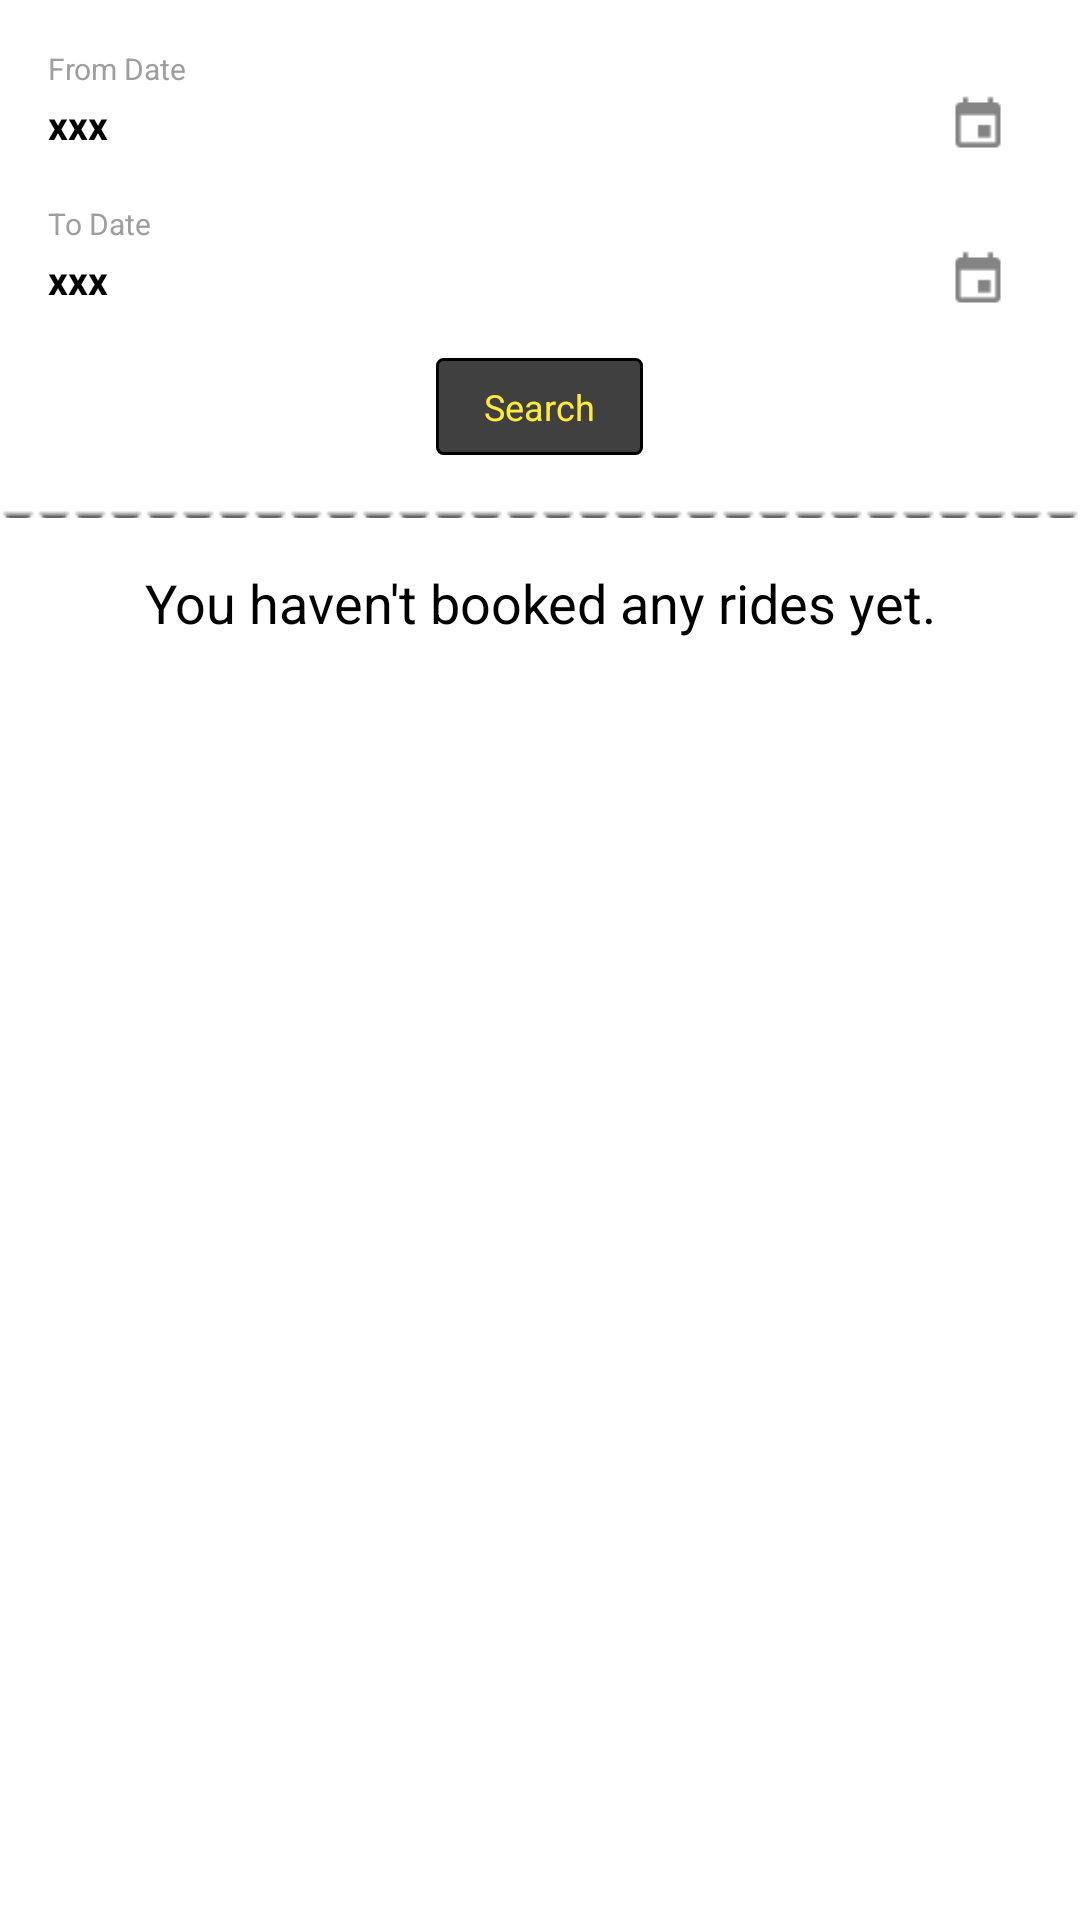

Icon bounding boxes for this 1080px×1920px phone screenshot, format (x1, y1, x2, y2):
calendar: (955, 96, 1001, 148), (955, 251, 1001, 303)
